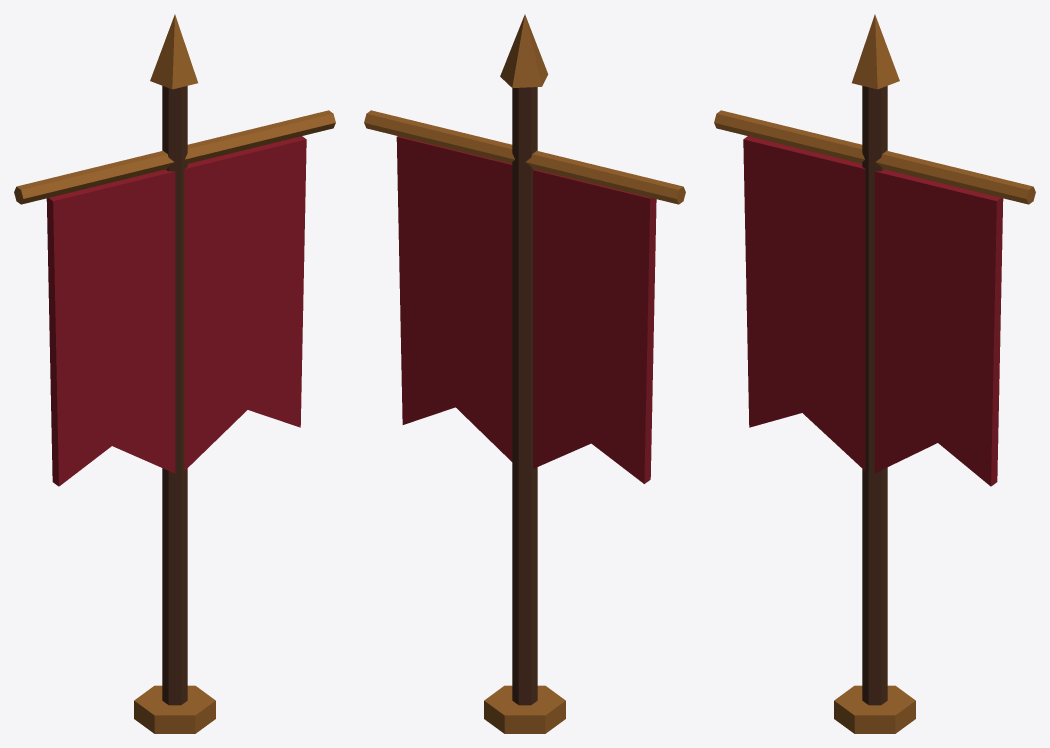
The model's file is battle_banner_crimson_lambda_LOD2.glb.
3 views of the same model, side by side, from view 1: azimuth 30°, elevation 25°; view 2: azimuth 150°, elevation 25°; view 3: azimuth 330°, elevation 25° (orthographic).
Visible parts, largest first — view 1: battle_banner_crimson_lambda_LOD2; view 2: battle_banner_crimson_lambda_LOD2; view 3: battle_banner_crimson_lambda_LOD2.
Boxes of the visible parts, x1,y1,x2,y2 form: battle_banner_crimson_lambda_LOD2: [14, 14, 335, 733]; battle_banner_crimson_lambda_LOD2: [364, 14, 685, 733]; battle_banner_crimson_lambda_LOD2: [714, 14, 1035, 733].
Bounding box in the file's own units: 2.12 × 4.57 × 0.48.
